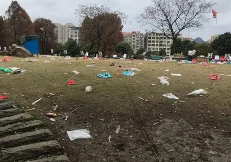garbage: (55, 127, 97, 138), (210, 51, 229, 68), (180, 88, 212, 98), (153, 71, 173, 87), (50, 101, 67, 119), (115, 64, 139, 76), (154, 92, 178, 102), (23, 57, 56, 64), (78, 83, 93, 98), (41, 109, 59, 121), (168, 61, 209, 66), (90, 70, 112, 78), (208, 71, 222, 82), (1, 67, 22, 74), (1, 54, 14, 63), (61, 55, 90, 59), (30, 97, 43, 105), (165, 72, 182, 78), (64, 79, 77, 86), (70, 69, 81, 76), (1, 93, 10, 101)
